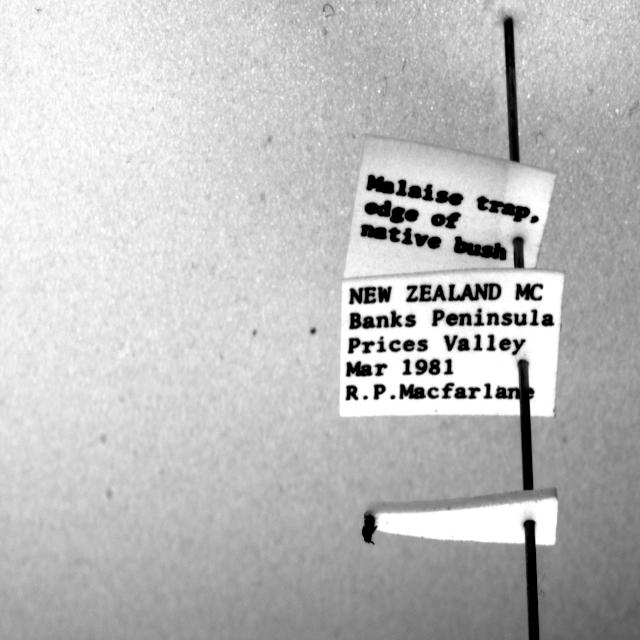typed_label: (340, 268, 564, 416), (345, 135, 555, 278)
